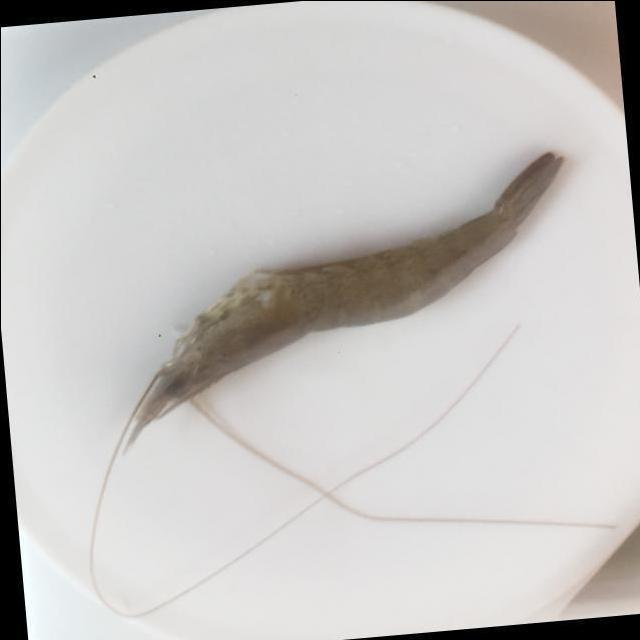shrimp: (122, 152, 561, 450)
